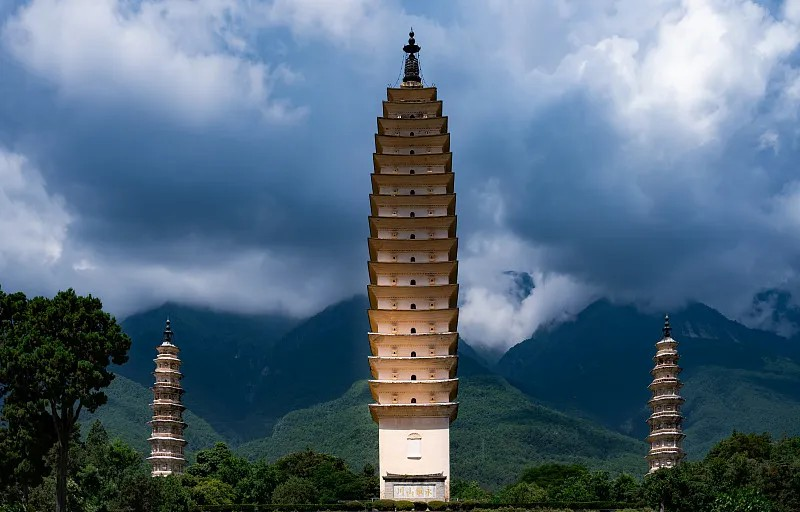ThreePagoda: (368, 25, 459, 503)
